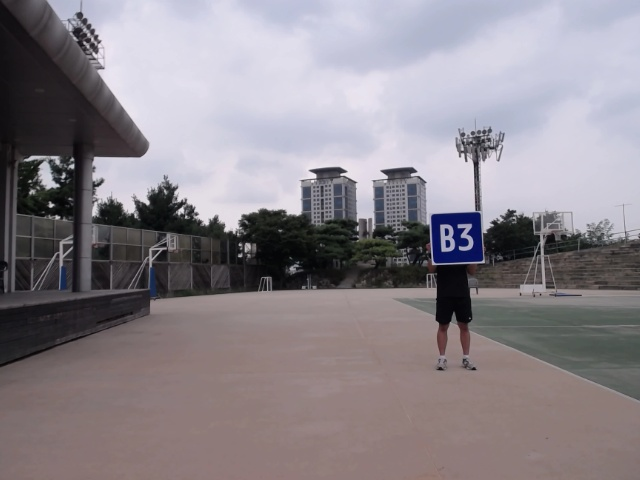delivery_b3: (429, 211, 486, 266)
